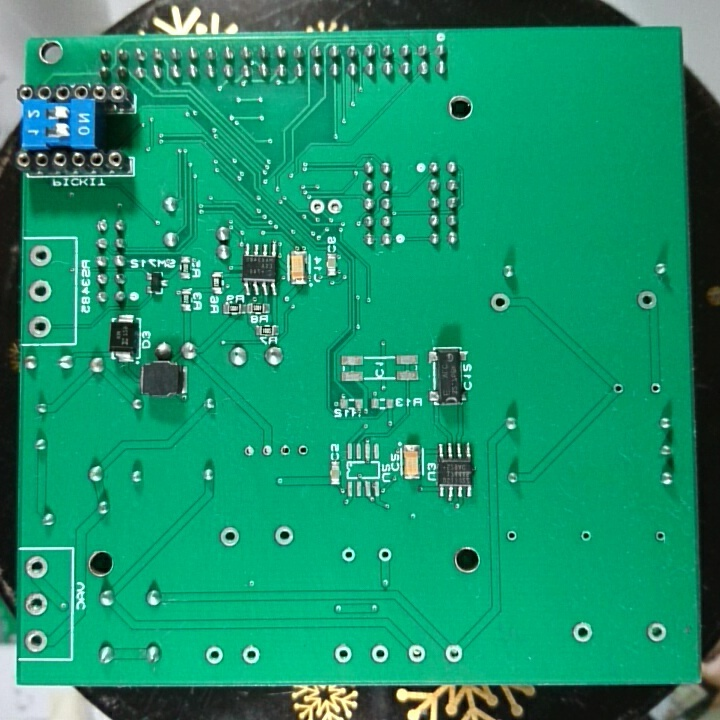F: (22, 590, 51, 618), (25, 312, 53, 340), (23, 627, 50, 656), (23, 552, 48, 583), (214, 522, 242, 549), (642, 618, 669, 645), (487, 290, 513, 317), (634, 286, 659, 314), (27, 243, 53, 268), (28, 278, 54, 303), (237, 643, 264, 667), (571, 619, 595, 645), (271, 523, 297, 547), (442, 642, 466, 666), (331, 643, 356, 666), (203, 644, 226, 668), (368, 643, 392, 666), (405, 642, 428, 666), (373, 544, 397, 565), (337, 545, 360, 566), (326, 196, 344, 218), (294, 441, 312, 461), (648, 378, 665, 399), (651, 527, 669, 546), (258, 441, 276, 460), (308, 197, 326, 215), (503, 526, 520, 545), (611, 380, 628, 399), (277, 441, 292, 461), (578, 527, 594, 545), (241, 443, 257, 461)
